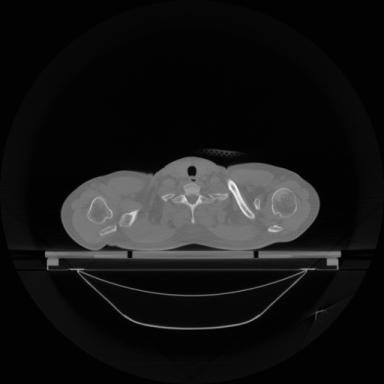body: (61, 157, 320, 250)
cord: (168, 183, 229, 223)
